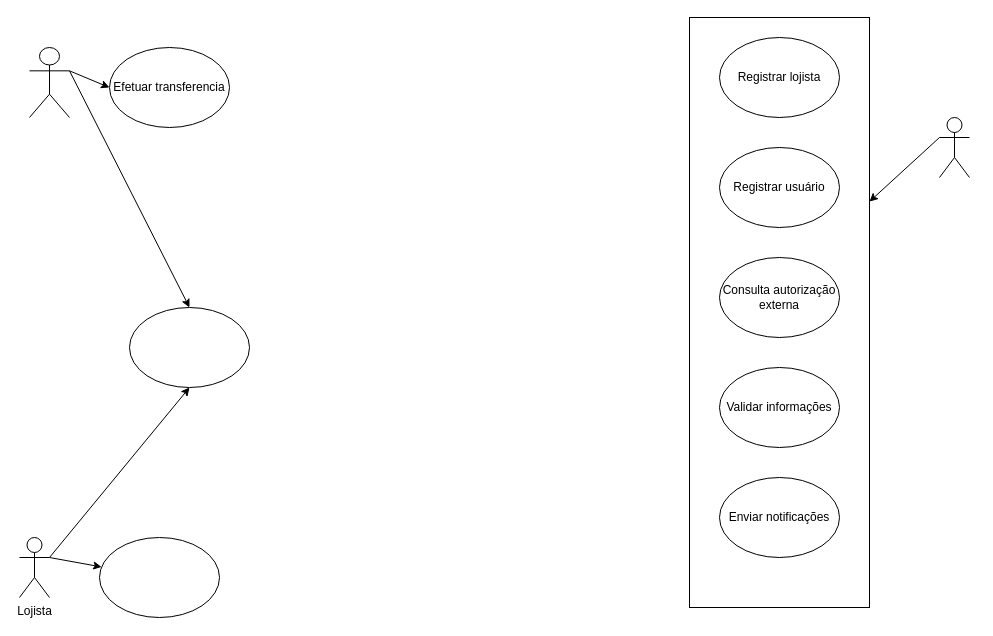
Some shapes in this 993 by 636 pixel diagram are drawn without their labels. The box of each missing label's shape, as (x1, y1, x2, y2) in pixels:
Receber notificações do sistema: (128, 306, 250, 388)
Receber transferência: (98, 536, 220, 618)
Sistema: (938, 116, 970, 178)
Usuário: (28, 46, 70, 118)
